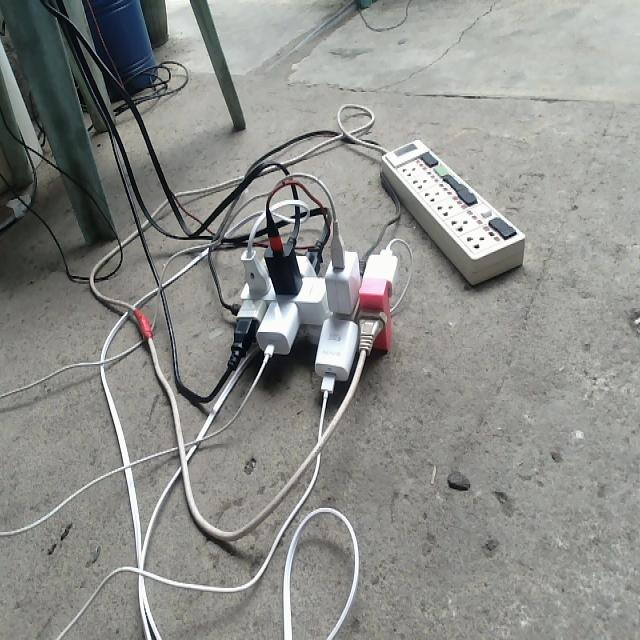-: (224, 200, 398, 392)
